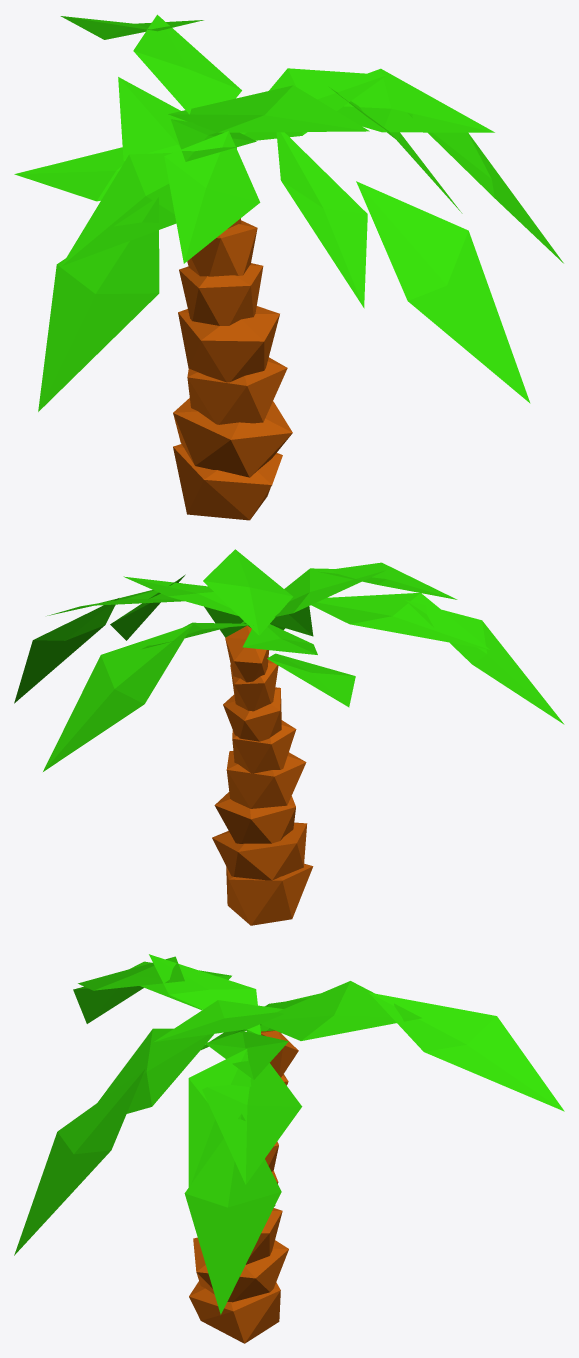
The model's file is PalmTreeSmall.glb.
3 renders of one model, top to bottom at view 1: azimuth 30°, elevation 25°; view 2: azimuth 150°, elevation 25°; view 3: azimuth 270°, elevation 25°, orthographic. The views are drawn at different scales.
Parts seen in each view (by area): view 1: PalmTreeSmall; view 2: PalmTreeSmall; view 3: PalmTreeSmall.
Part boxes in pixels (bbox=[...]): PalmTreeSmall: bbox=[14, 14, 563, 520]; PalmTreeSmall: bbox=[14, 549, 564, 925]; PalmTreeSmall: bbox=[14, 954, 564, 1343].
Bounding box in the file's own units: 3.31 × 2.17 × 3.2.
